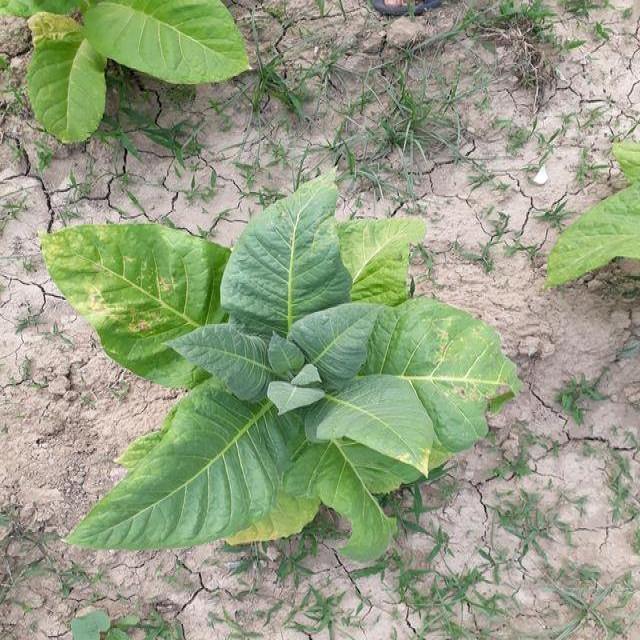crop: (56, 211, 528, 553), (7, 1, 255, 118)
